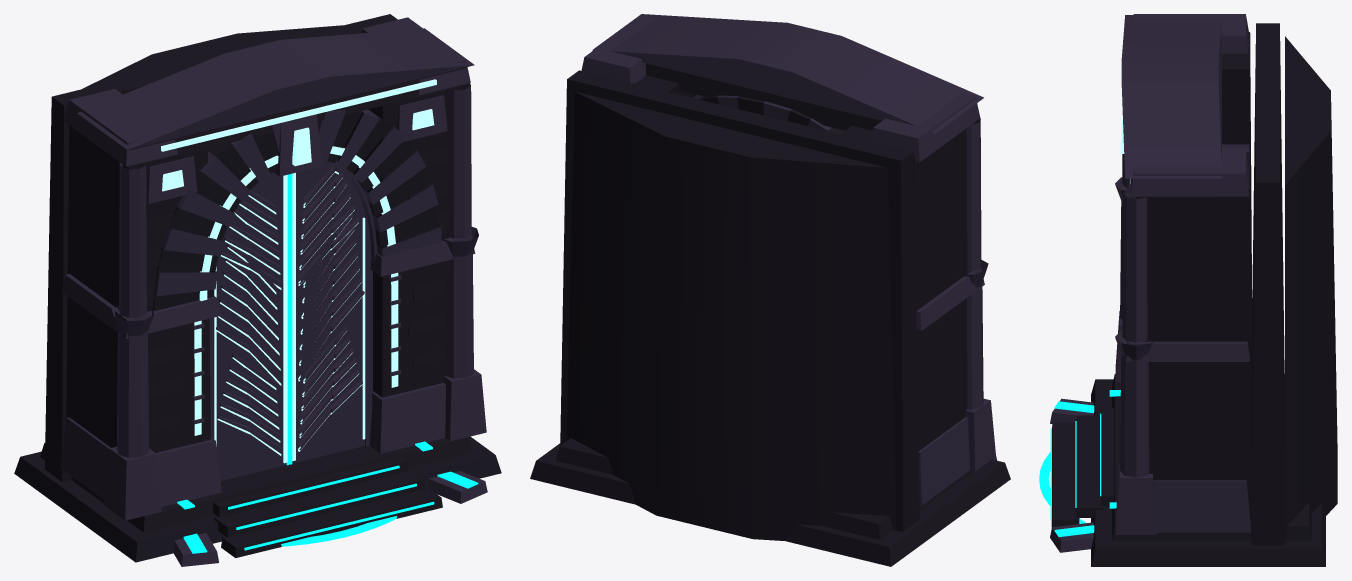
Rendered from summoning_portal_gothic.fbx.
The picture shows the model from 3 angles, left to right: view 1: azimuth 30°, elevation 25°; view 2: azimuth 150°, elevation 25°; view 3: azimuth 270°, elevation 25°; orthographic projection. The views are drawn at different scales.
Visible parts, largest first — view 1: Portal_Frame_StaticMesh, Portal_Door_Right, Portal_Door_Left; view 2: Portal_Frame_StaticMesh; view 3: Portal_Frame_StaticMesh.
Boxes of the visible parts, x1,y1,x2,y2 form: Portal_Frame_StaticMesh: (14, 14, 501, 566); Portal_Door_Right: (289, 162, 372, 464); Portal_Door_Left: (209, 172, 289, 480); Portal_Frame_StaticMesh: (530, 14, 1010, 566); Portal_Frame_StaticMesh: (1039, 14, 1337, 566).
Size of the model in its own units: 24 by 26.5 by 17.55.
